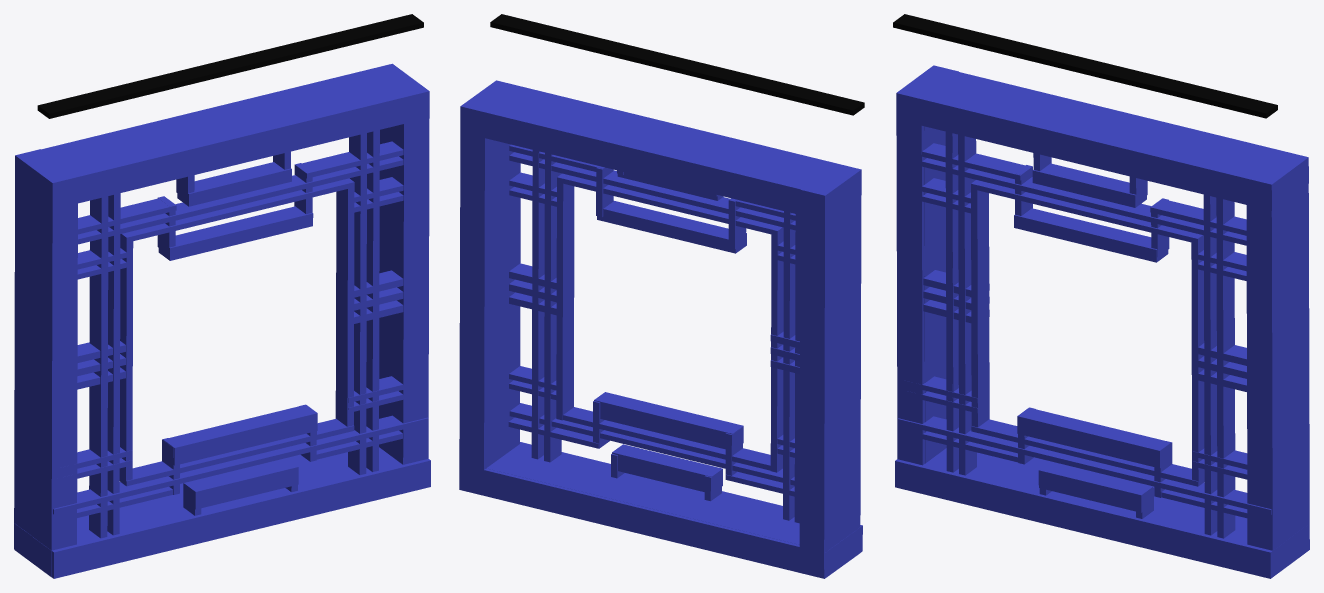
File: Frame_Model_0.0.glb
3 views of the same model, side by side, from view 1: azimuth 30°, elevation 25°; view 2: azimuth 150°, elevation 25°; view 3: azimuth 330°, elevation 25° (orthographic). The views are drawn at different scales.
Parts seen in each view (by area): view 1: mesh_id35, mesh_id43, mesh_id44, mesh_id29, mesh_id410, mesh_id234, mesh_id208, mesh_id665, mesh_id281, mesh_id83, mesh_id68, mesh_id232 (+18 smaller); view 2: mesh_id35, mesh_id43, mesh_id29, mesh_id158, mesh_id44, mesh_id410, mesh_id208, mesh_id665, mesh_id83, mesh_id68, mesh_id232, mesh_id623 (+14 smaller); view 3: mesh_id35, mesh_id29, mesh_id44, mesh_id43, mesh_id410, mesh_id68, mesh_id665, mesh_id101, mesh_id230, mesh_id281, mesh_id232, mesh_id83 (+19 smaller).
Part boxes in pixels (<box>): mesh_id35: <box>15,63,429,209</box>; mesh_id43: <box>14,149,77,550</box>; mesh_id44: <box>17,447,430,578</box>; mesh_id29: <box>379,91,429,464</box>; mesh_id410: <box>37,14,423,118</box>; mesh_id234: <box>89,196,107,538</box>; mesh_id208: <box>335,178,354,426</box>; mesh_id665: <box>163,404,317,465</box>; mesh_id281: <box>53,415,428,514</box>; mesh_id83: <box>348,133,366,474</box>; mesh_id68: <box>366,130,379,471</box>; mesh_id232: <box>107,193,120,535</box>; mesh_id35: <box>460,80,861,220</box>; mesh_id43: <box>799,189,861,578</box>; mesh_id29: <box>459,132,520,469</box>; mesh_id158: <box>459,464,860,578</box>; mesh_id44: <box>486,442,862,552</box>; mesh_id410: <box>490,14,864,115</box>; mesh_id208: <box>556,173,574,420</box>; mesh_id665: <box>594,392,743,449</box>; mesh_id83: <box>544,153,561,462</box>; mesh_id68: <box>531,150,544,459</box>; mesh_id232: <box>783,211,795,520</box>; mesh_id623: <box>597,201,746,253</box>; mesh_id35: <box>896,65,1308,210</box>; mesh_id29: <box>1246,179,1309,550</box>; mesh_id44: <box>895,448,1307,578</box>; mesh_id43: <box>896,65,958,465</box>; mesh_id410: <box>893,14,1277,118</box>; mesh_id68: <box>1216,197,1235,538</box>; mesh_id665: <box>1017,407,1171,468</box>; mesh_id101: <box>924,126,946,463</box>; mesh_id230: <box>971,189,989,427</box>; mesh_id281: <box>897,416,1271,514</box>; mesh_id232: <box>958,134,976,475</box>; mesh_id83: <box>1203,194,1217,535</box>.
Size of the model in its own units: 0.9299 by 1.09 by 0.1693.
Materials: 48 (48 with a texture image).
